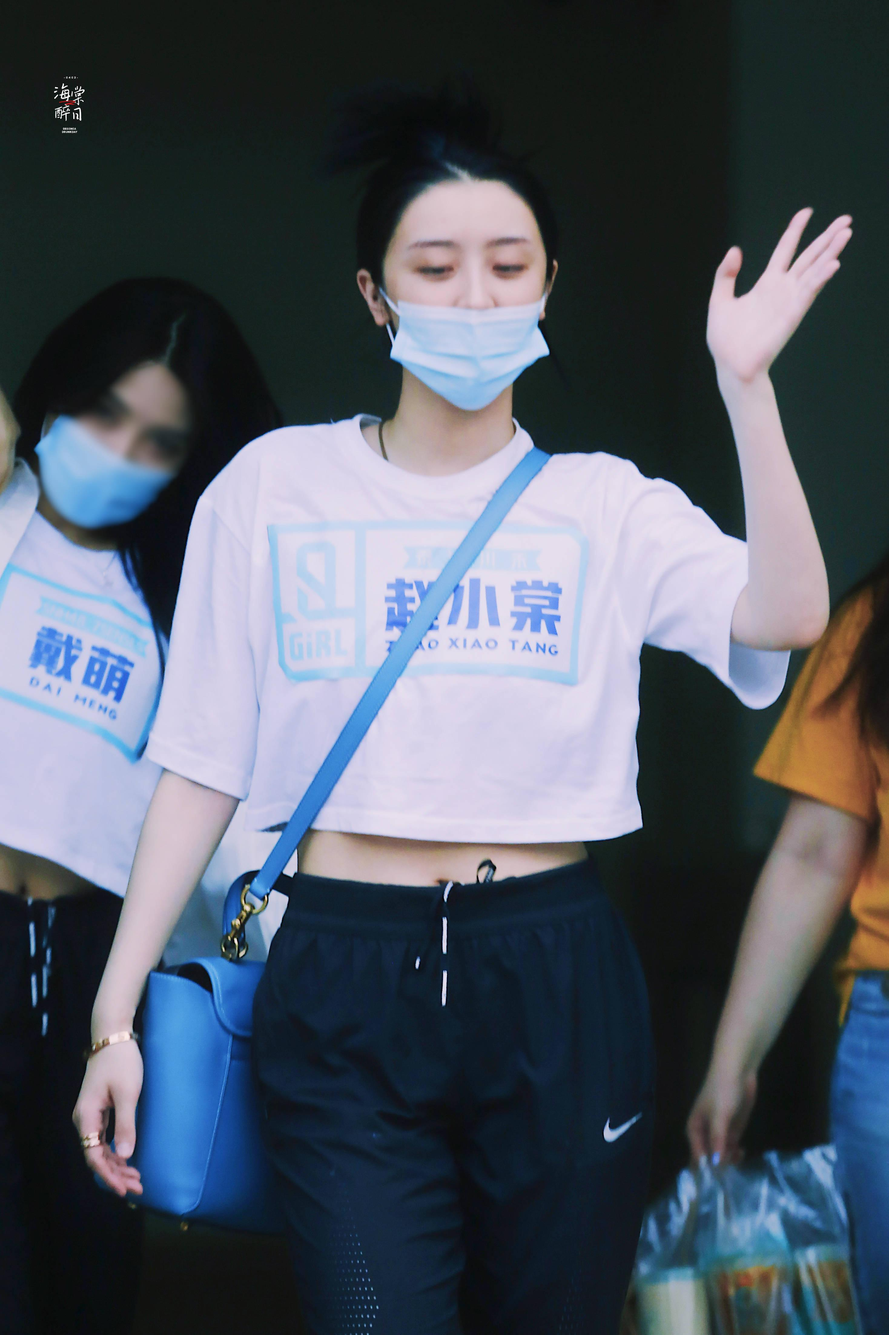OK: (35, 367, 182, 526)
WRONG: (381, 224, 544, 399)
